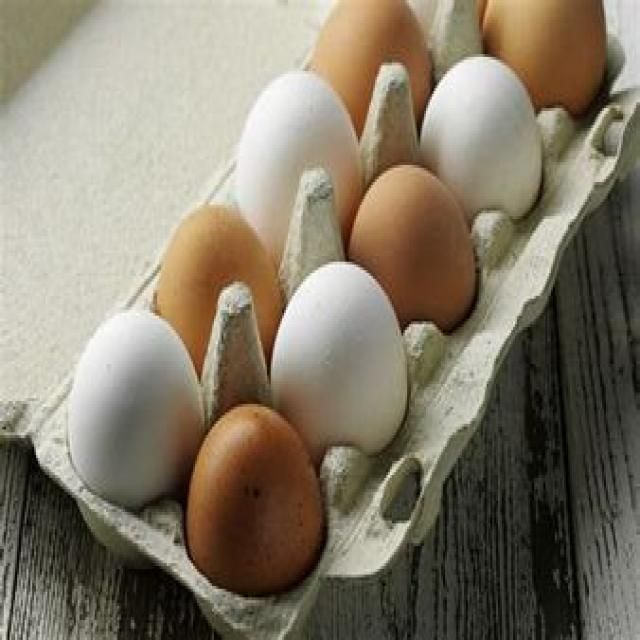Egg: (267, 232, 419, 492), (61, 260, 203, 534), (235, 46, 368, 273), (413, 38, 560, 238)
